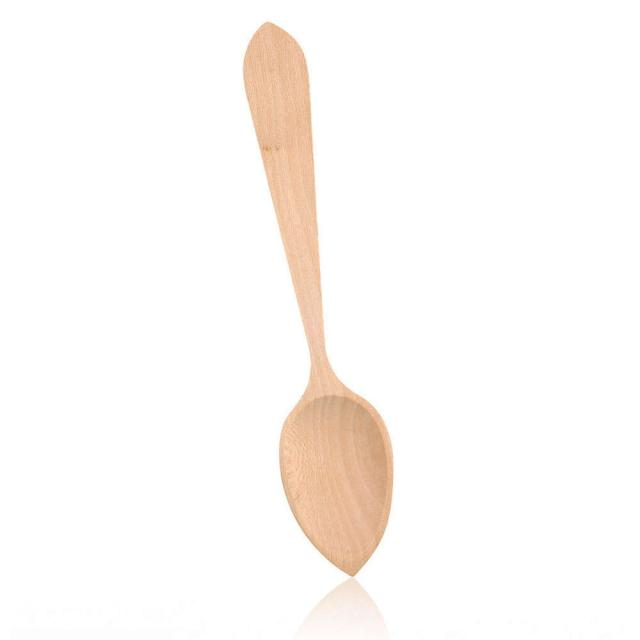spoon: (219, 6, 402, 585)
